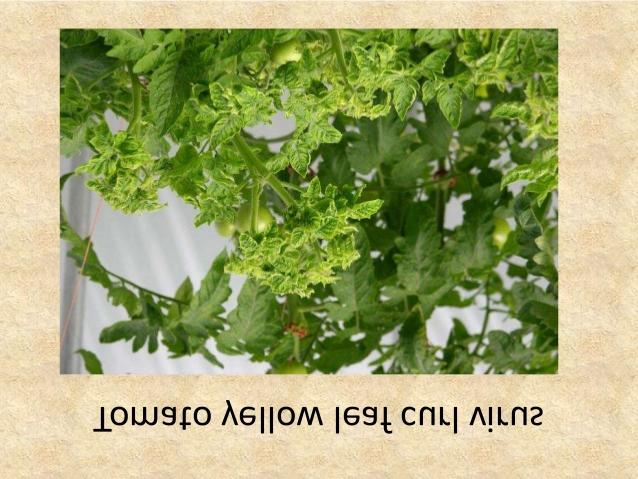Tomato leaf yellow virus: (437, 85, 473, 134), (202, 116, 243, 154), (350, 42, 382, 88), (496, 163, 543, 194), (390, 71, 419, 121), (234, 81, 273, 117), (73, 148, 121, 175), (344, 196, 390, 222), (486, 96, 528, 124), (123, 136, 155, 169), (289, 133, 311, 179), (311, 119, 348, 144), (301, 78, 336, 104), (260, 231, 284, 259), (238, 222, 255, 260), (317, 215, 344, 238), (335, 239, 357, 263), (291, 225, 313, 249), (278, 63, 295, 93)
